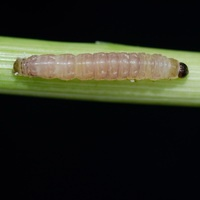insect: (13, 53, 188, 79)
